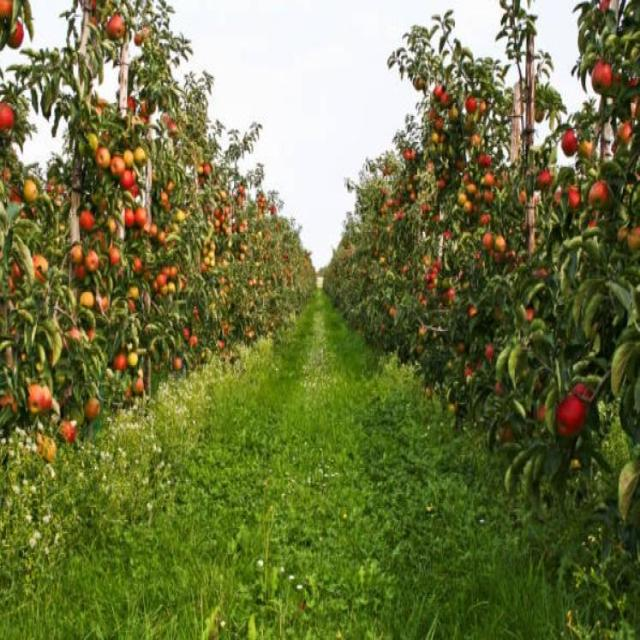row: (1, 284, 617, 640)
